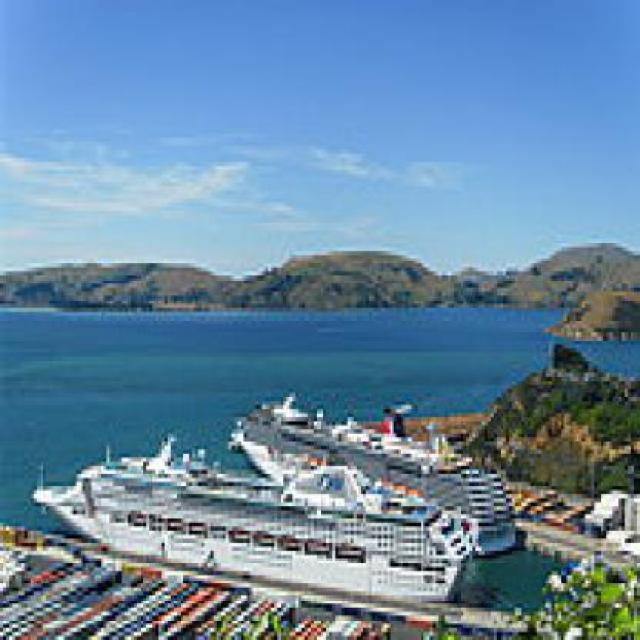cruise: (56, 463, 453, 589)
